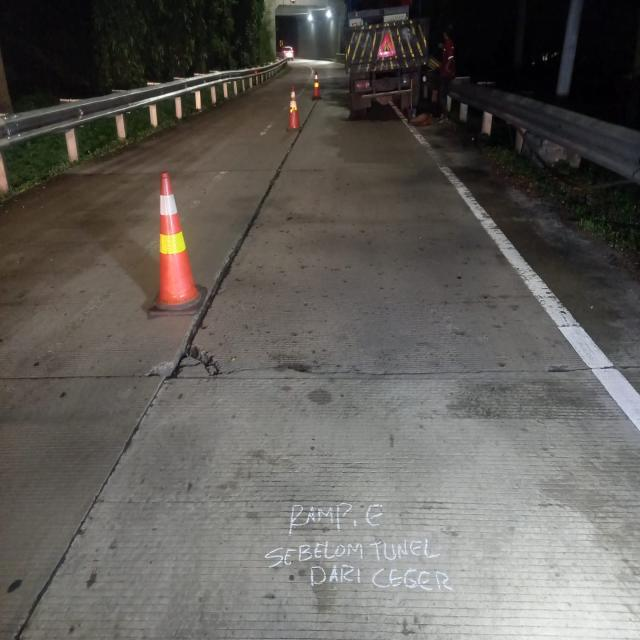Buraco: (141, 342, 227, 381)
